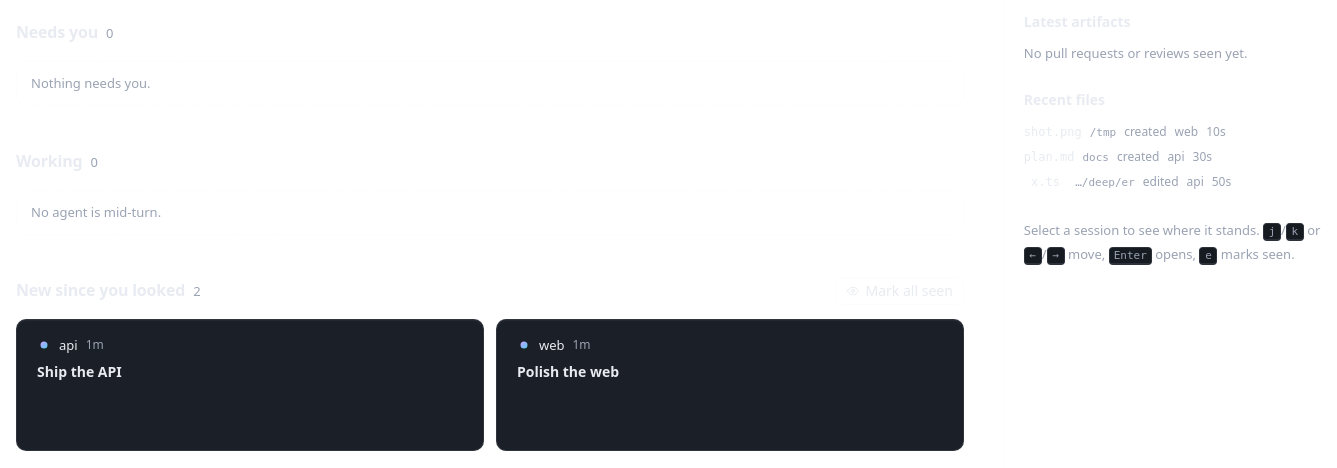
Scenario: agent files › lists recent live files across sessions, and counts the files of a session in its details
The width and height of the screenshot is (1337, 468).
Click the button "api 1m Ship the API": (68, 345) [16,319,484,451]
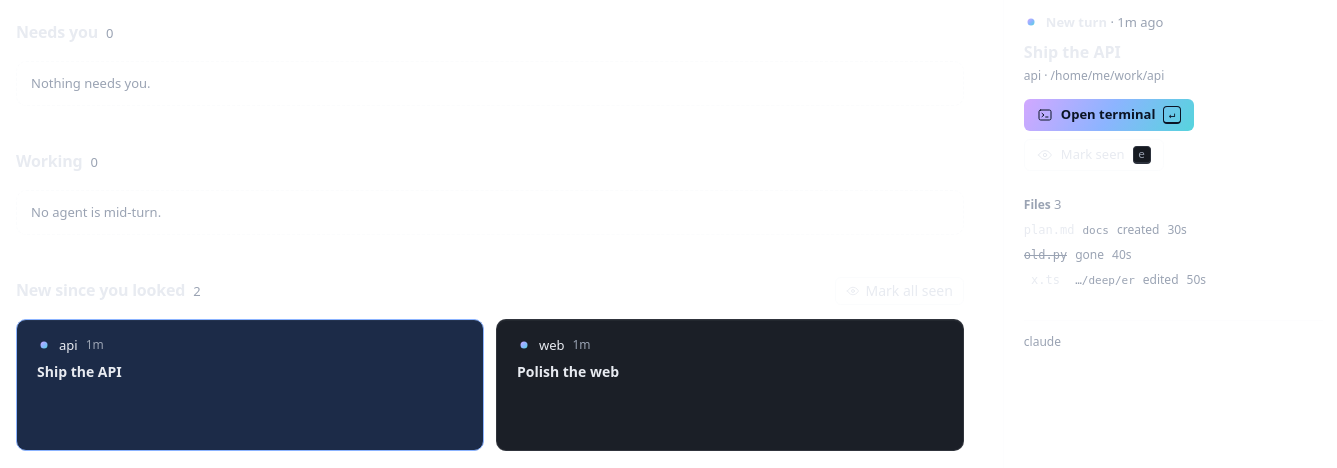
expect the heading "Files 3" is shown: met, box [1024,195,1061,213]
